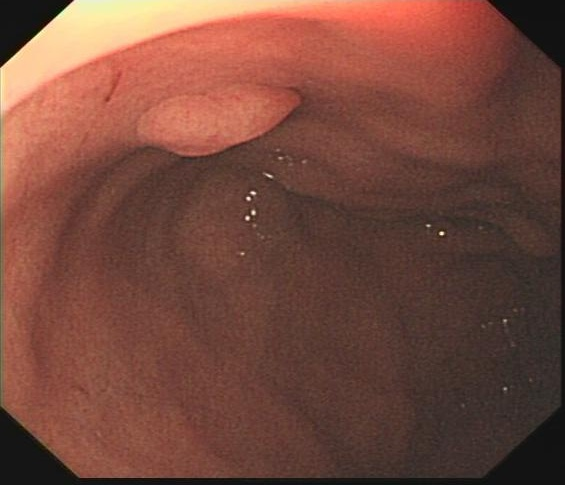Polyp: (133, 80, 307, 160)
